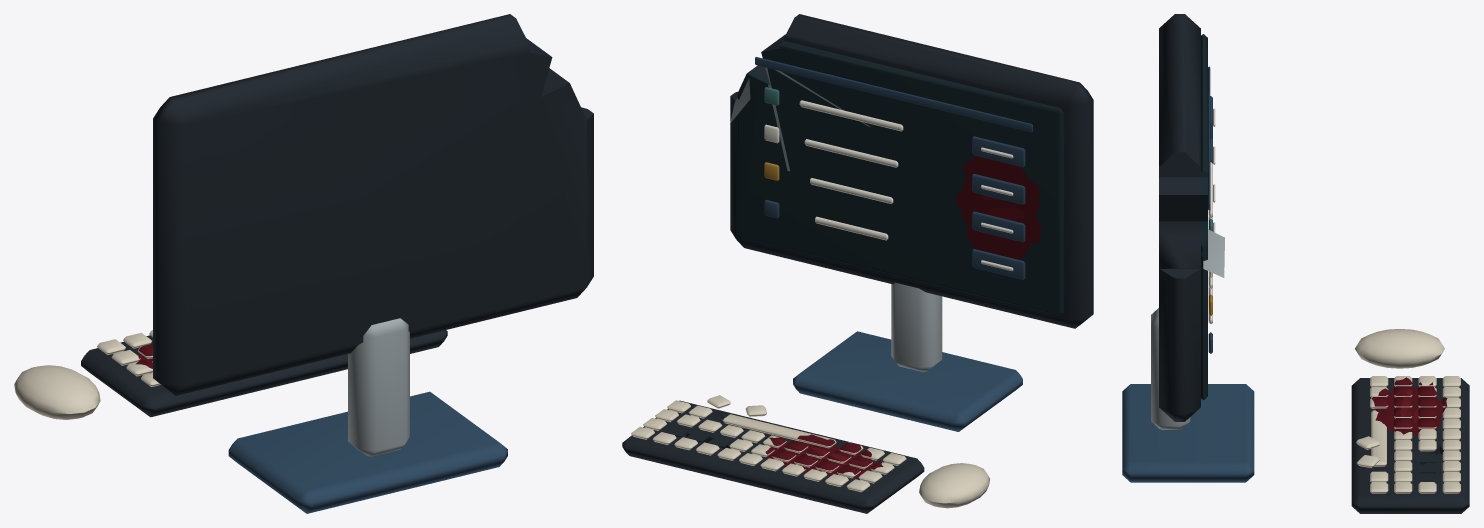
File: desktop_computer.glb
3 views of the same model, side by side, from view 1: azimuth 30°, elevation 25°; view 2: azimuth 150°, elevation 25°; view 3: azimuth 270°, elevation 25° (orthographic). The views are drawn at different scales.
Parts seen in each view (by area): view 1: desktop_computer_Outbreak_Static; view 2: desktop_computer_Outbreak_Static; view 3: desktop_computer_Outbreak_Static.
Boxes of the visible parts, left/top/right/bottom form: desktop_computer_Outbreak_Static: left=14, top=14, right=593, bottom=513; desktop_computer_Outbreak_Static: left=622, top=14, right=1093, bottom=513; desktop_computer_Outbreak_Static: left=1122, top=14, right=1469, bottom=513.
Size of the model in its own units: 0.4995 by 0.459 by 0.4155.
